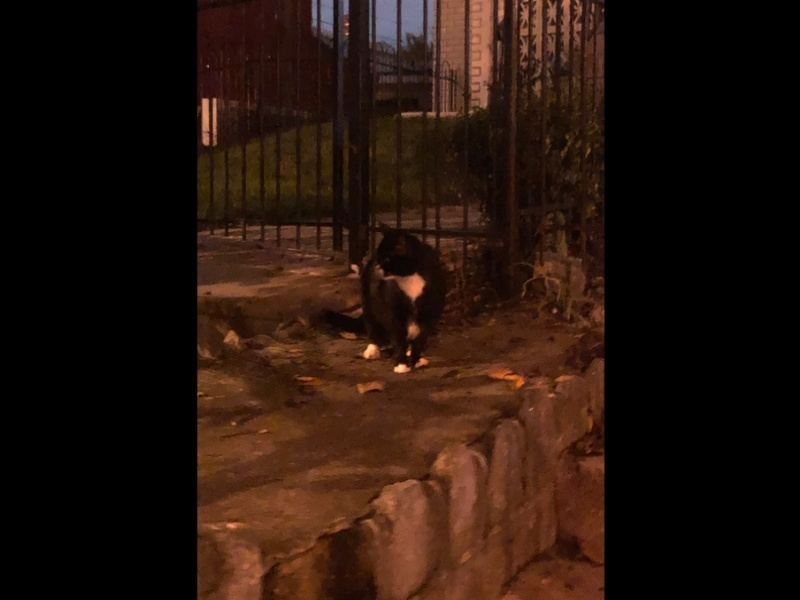cat: (353, 223, 450, 380)
